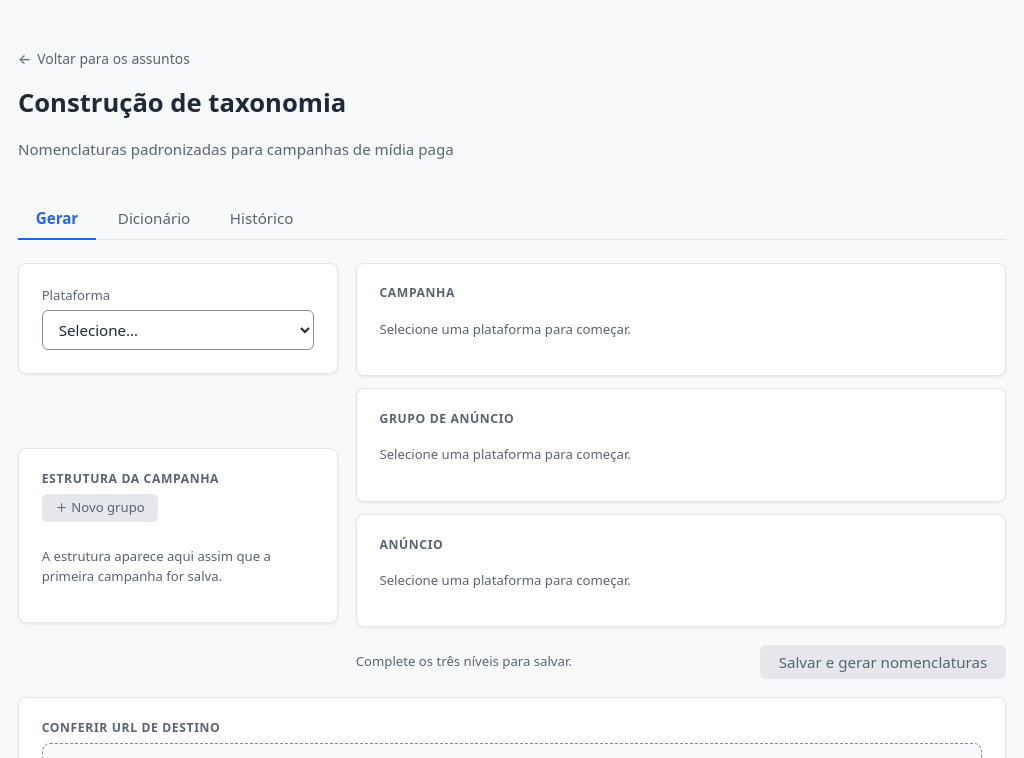
Test case: cascata › libera o grupo quando a campanha fica válida
The width and height of the screenshot is (1024, 758).
Select "Meta (FB)" in the dropdown labelled "Plataforma" at x=178, y=330, box x1=42 y1=310 x2=314 y2=350
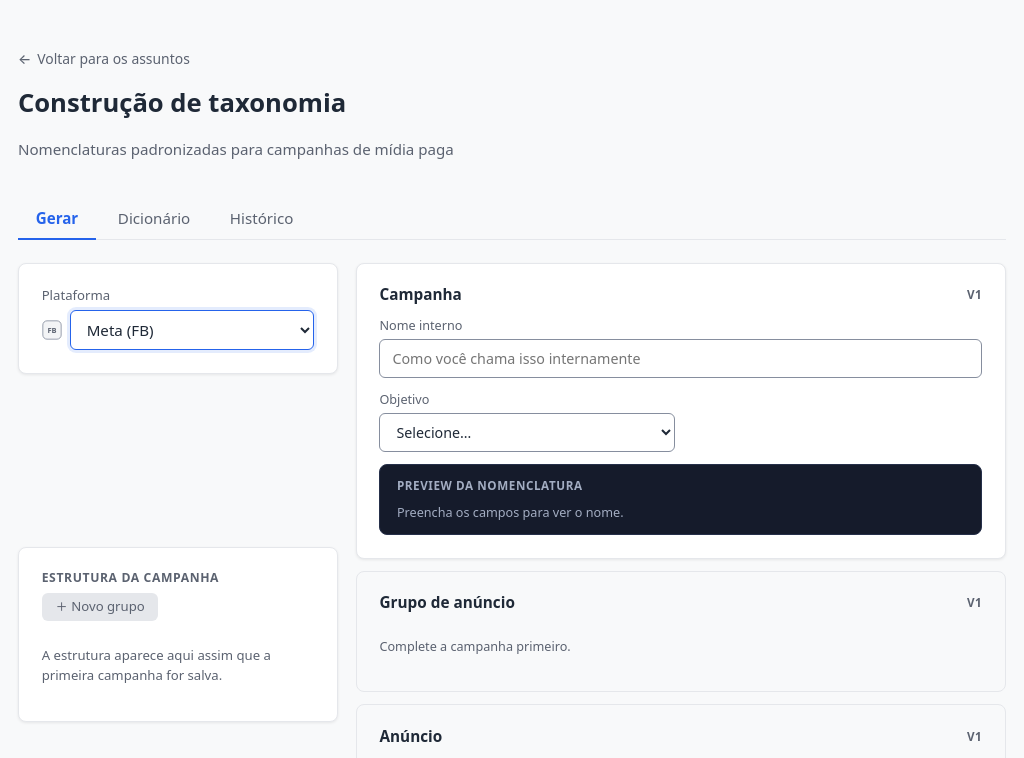
Select "Conversão → CV" in the dropdown labelled "Objetivo" at x=527, y=433, box x1=380 y1=413 x2=675 y2=452
(page scrolled)
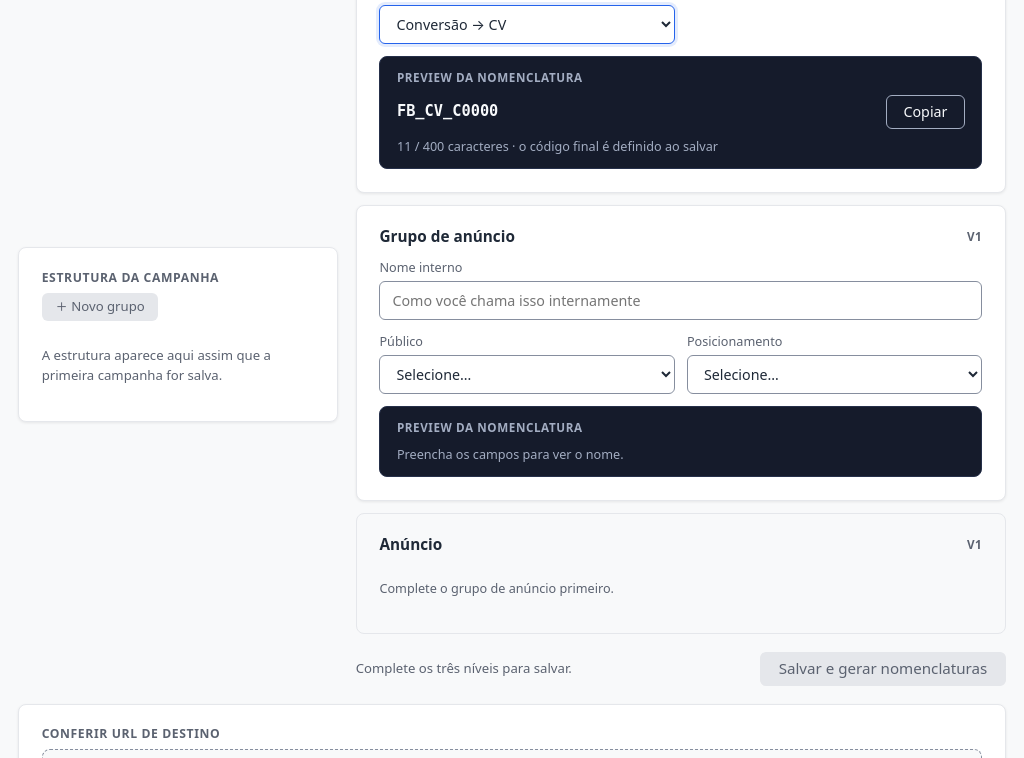
Expected: the dropdown labelled "Público" is shown, x1=380 y1=355 x2=675 y2=394
Expected: the text "Complete a campanha primeiro." is gone
